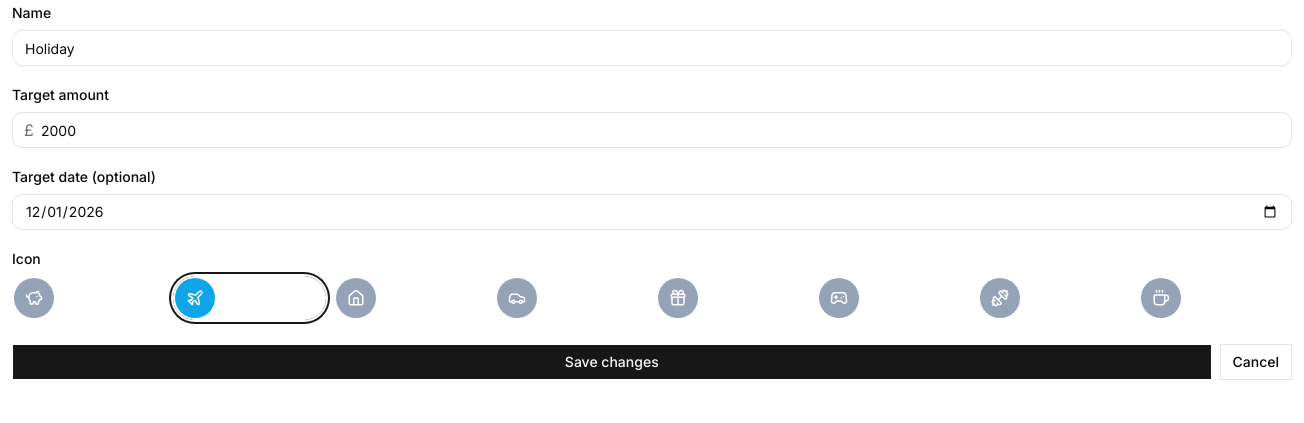
Test: GoalForm (KAN-65) › blocks lowering target_amount below current_amount
Replace the text in the number field labelled "Target amount" with "300": (652, 130) [12,112,1292,148]
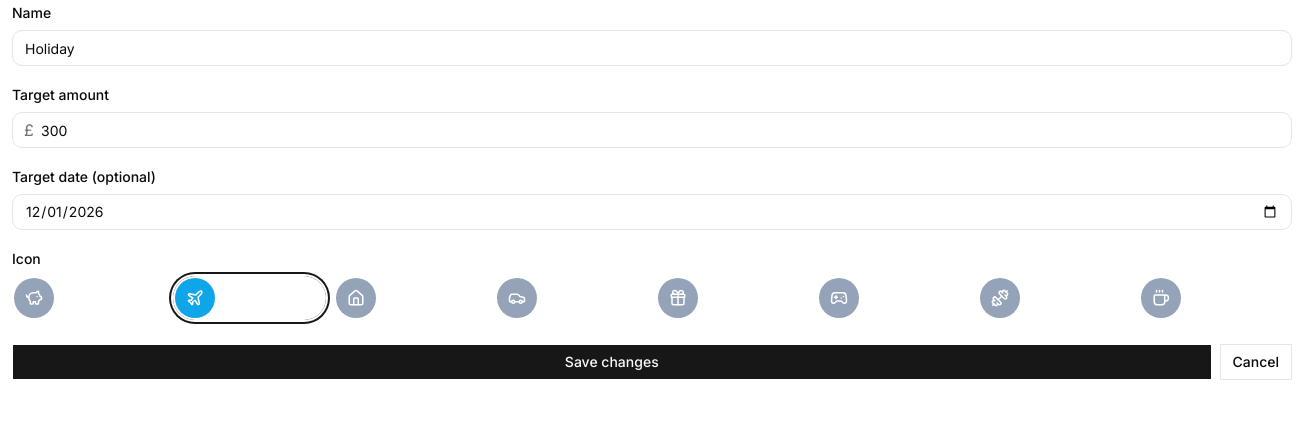
Click the button "Save changes": (612, 362) [12,344,1212,380]
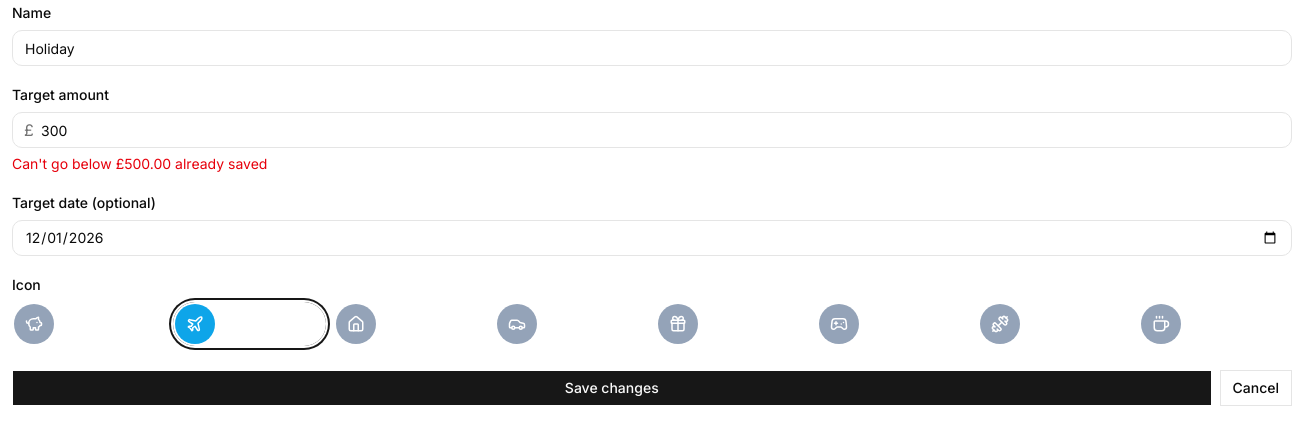
Expected: the text "Can't go below £500.00 already saved" is shown, [12,155,267,172]
